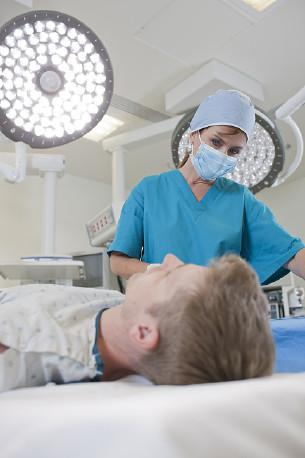NONE: (125, 252, 220, 305)
OK: (187, 126, 246, 185)
